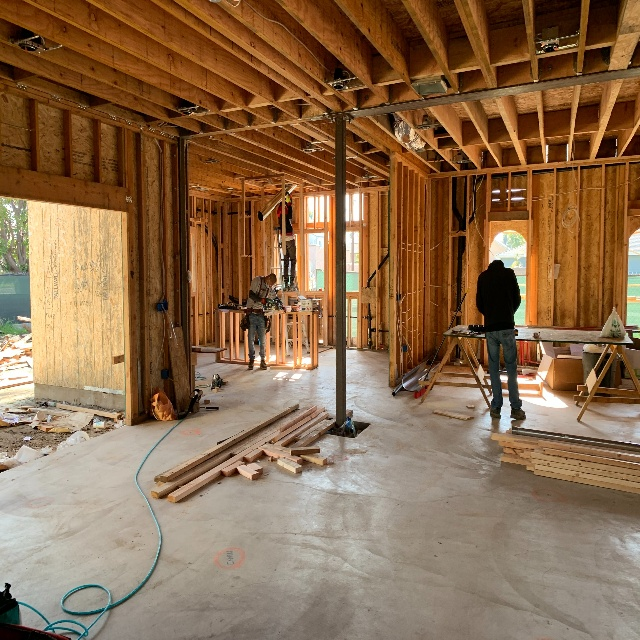Guantes: (285, 191, 290, 203), (260, 298, 268, 305), (282, 306, 286, 313)
